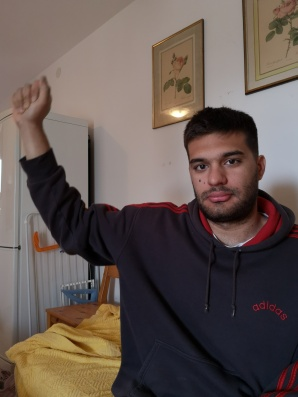A: (10, 72, 53, 128)
